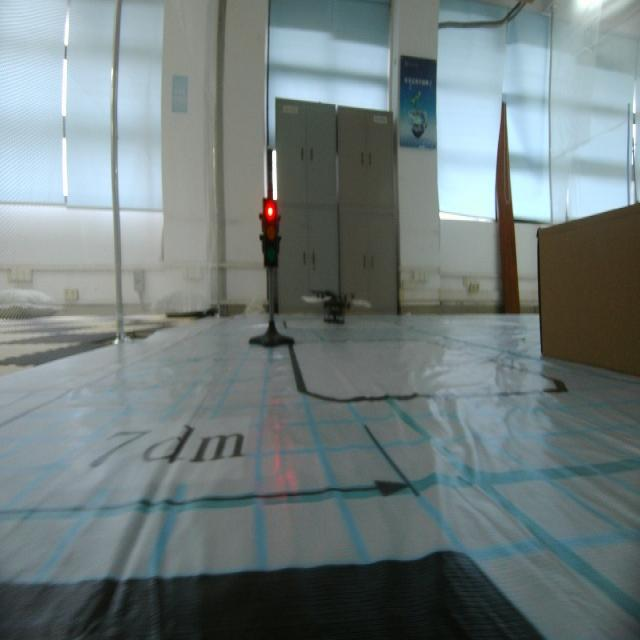red: (257, 197, 286, 276)
